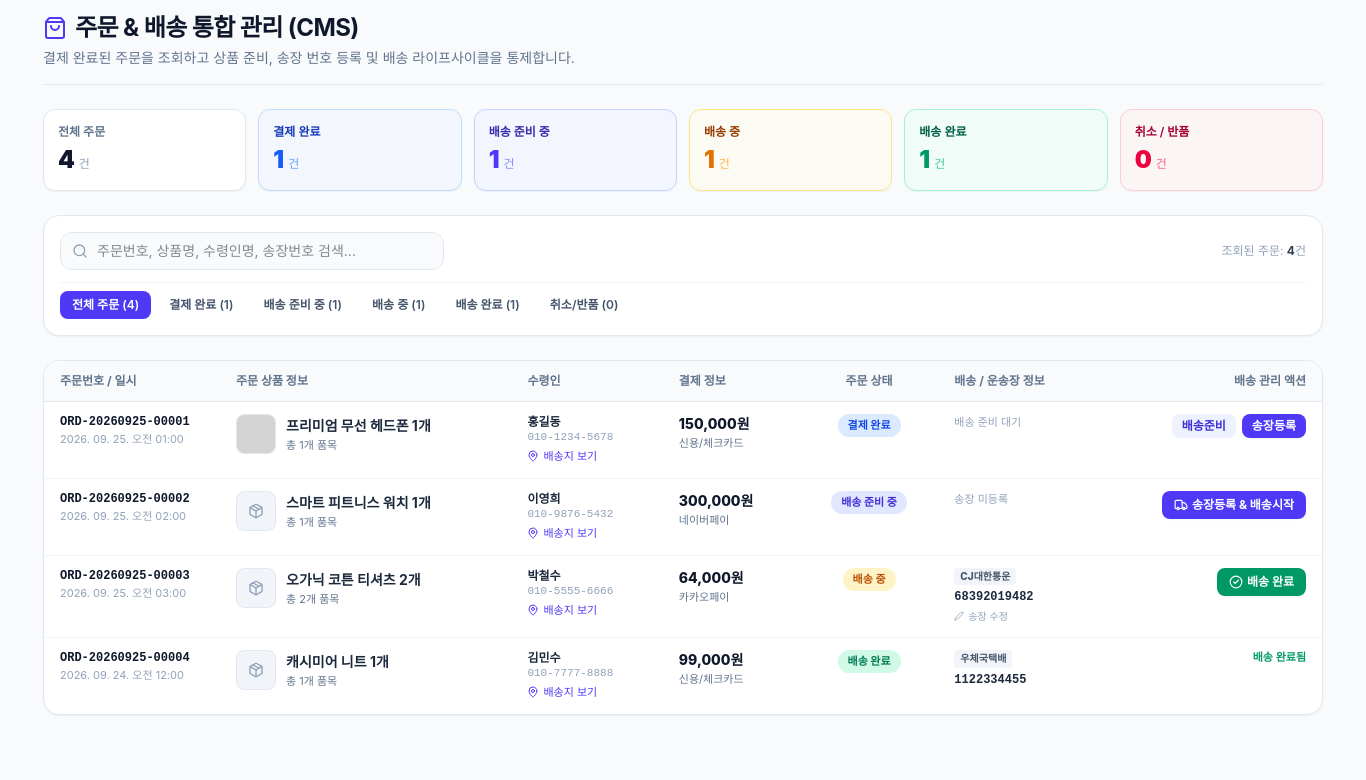
Test case: AdminOrderListViewer Component › 상태 탭(배송 중)을 클릭하면 배송 중 주문만 표시된다
What coordinates should you click on to do the following:
click the button "배송 중 (1)"
I would click on:
 (399, 305)
Its box is [360,291,437,319].
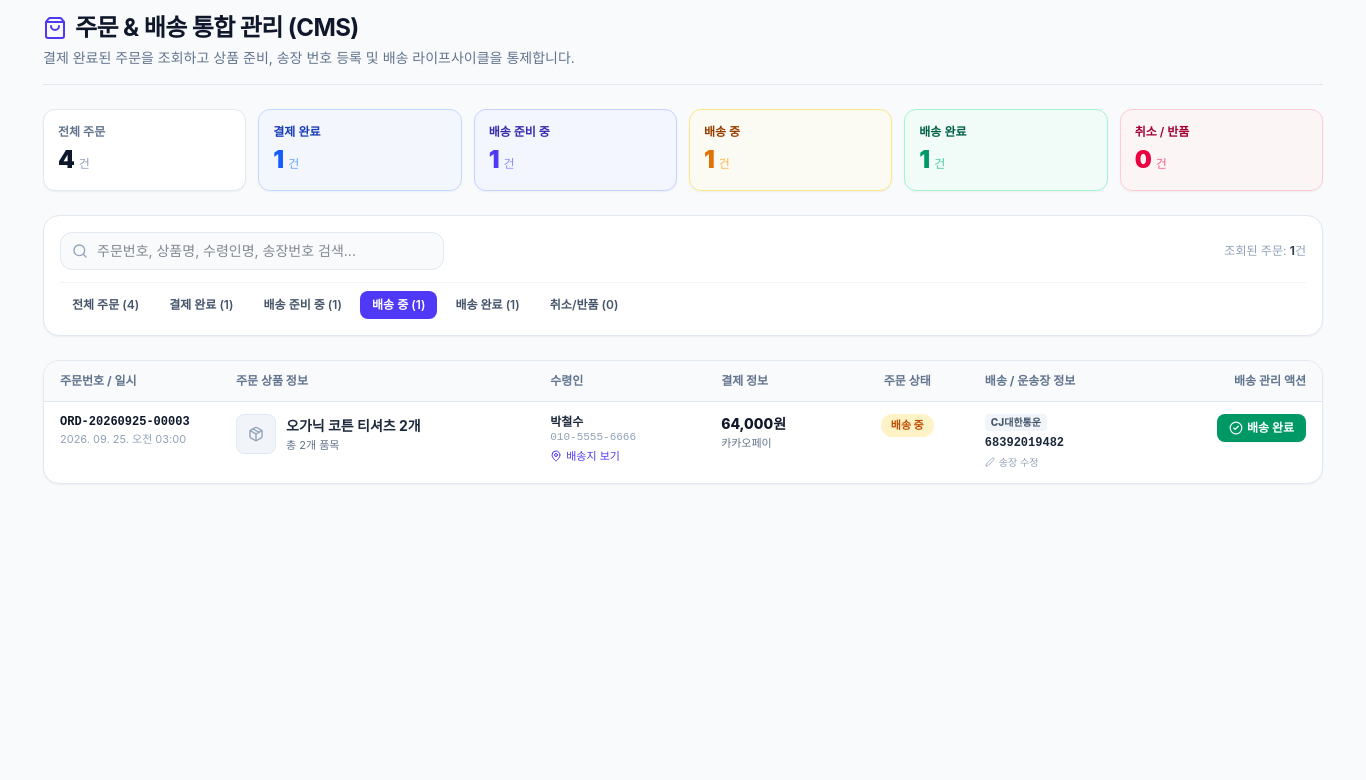
Check: the text "ORD-20260925-00003" is shown, box [60,414,204,430]
Check: the text "ORD-20260925-00001" is gone
Check: the text "ORD-20260925-00002" is gone
